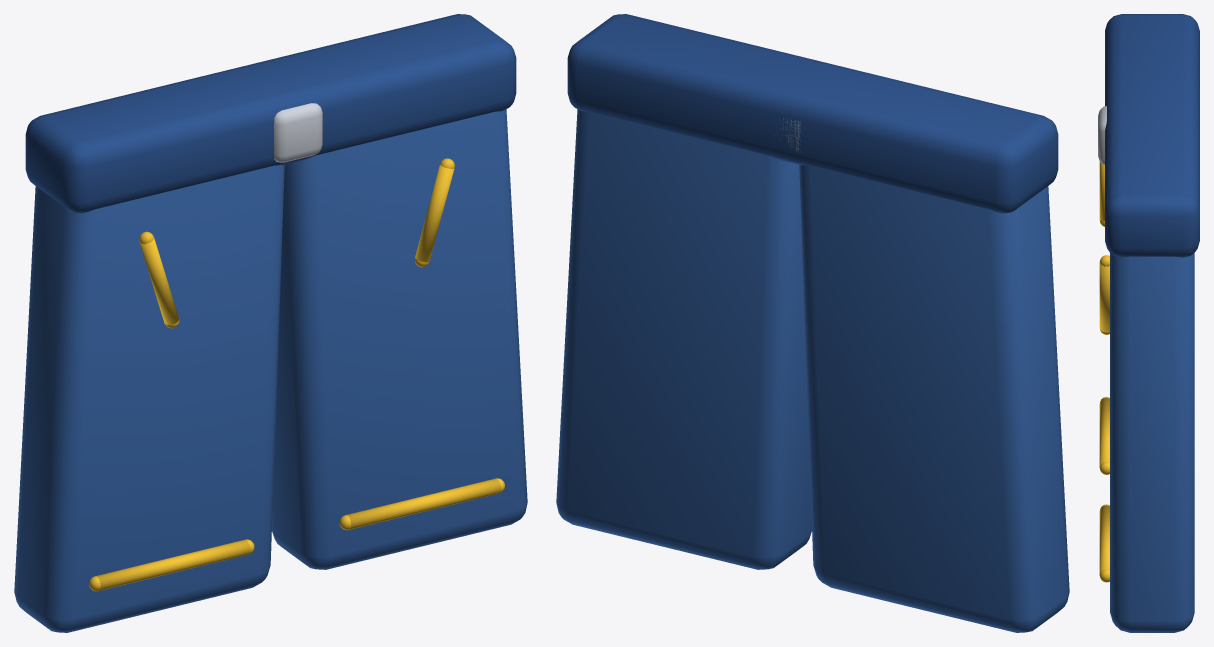
The model's file is item_jeans.fbx.
The picture shows the model from 3 angles, left to right: view 1: azimuth 30°, elevation 25°; view 2: azimuth 150°, elevation 25°; view 3: azimuth 270°, elevation 25°; orthographic projection. The views are drawn at different scales.
Visible parts, largest first — view 1: item_jeans; view 2: item_jeans; view 3: item_jeans.
Part boxes in pixels (bbox=[...]): item_jeans: bbox=[14, 14, 527, 632]; item_jeans: bbox=[556, 14, 1069, 632]; item_jeans: bbox=[1098, 14, 1199, 632].
Size of the model in its own units: 0.2887 by 0.28 by 0.06.
